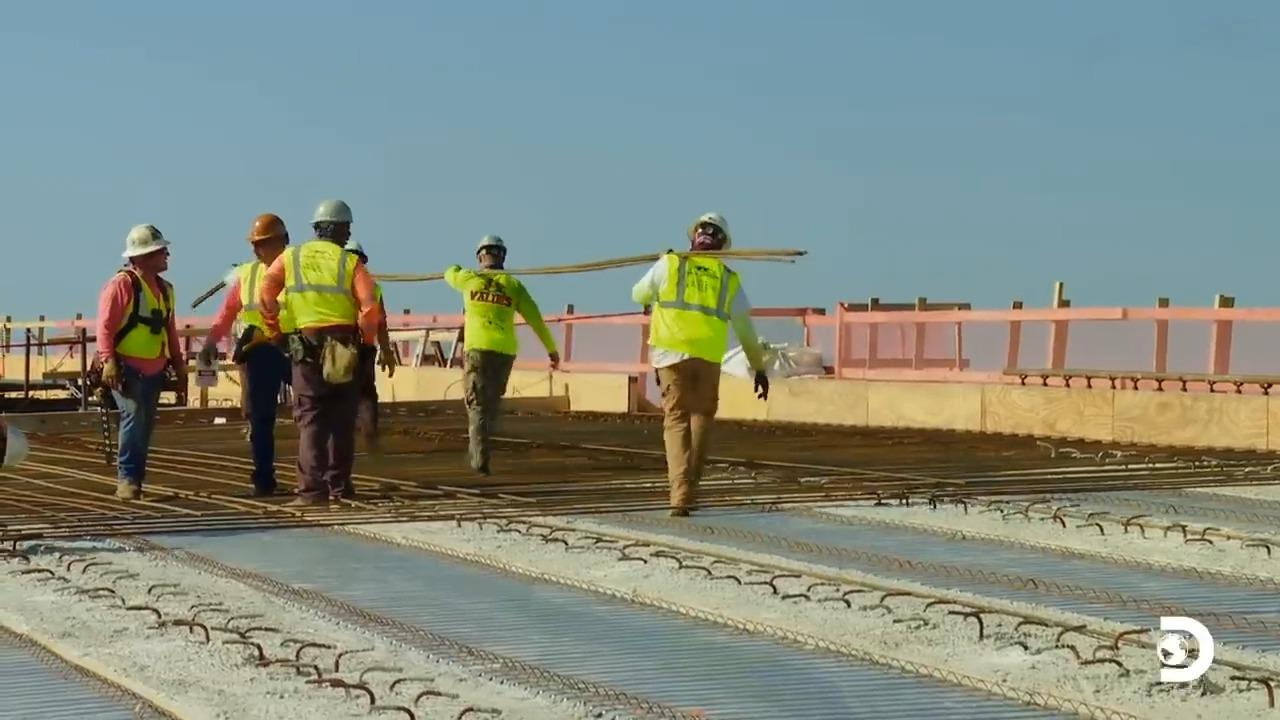Gloves: (749, 372, 772, 400), (99, 364, 121, 390), (198, 343, 221, 367)
Helmet: (687, 212, 731, 250), (121, 223, 170, 257), (247, 212, 288, 243), (309, 199, 352, 225), (475, 234, 506, 261)
Person: (631, 211, 770, 517), (257, 199, 381, 507), (443, 234, 560, 476), (90, 223, 189, 501), (198, 212, 292, 497), (342, 238, 395, 454)
Safety Boot: (284, 489, 333, 511), (108, 473, 146, 500), (250, 474, 278, 502), (327, 488, 351, 501)
Safety Vest: (660, 266, 729, 361), (110, 281, 174, 369), (292, 251, 350, 330), (241, 266, 278, 334)
no-vest: (468, 276, 523, 354)
